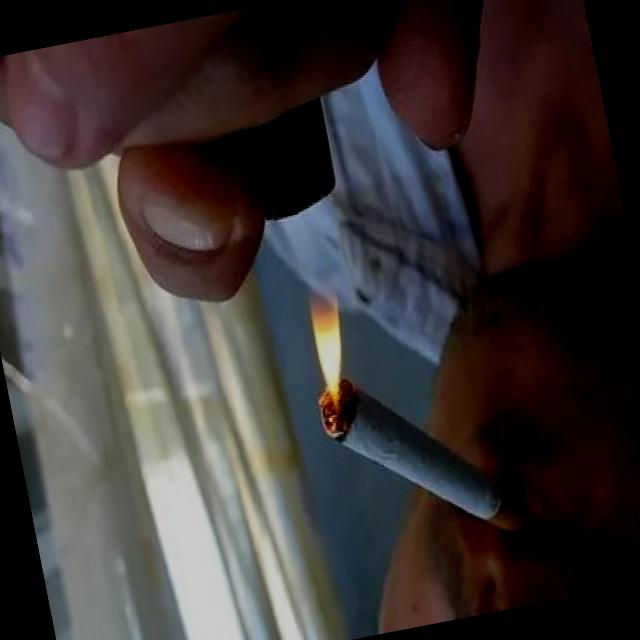smoke: (306, 341, 542, 572)
